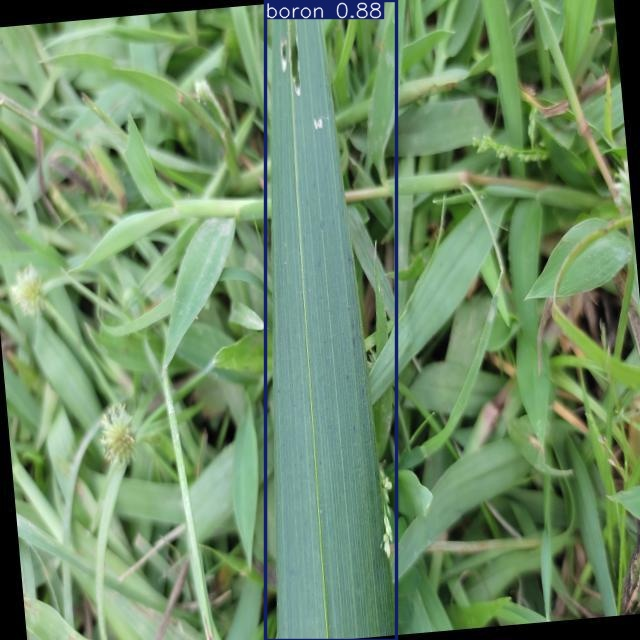nitrogen: (266, 0, 397, 640)
